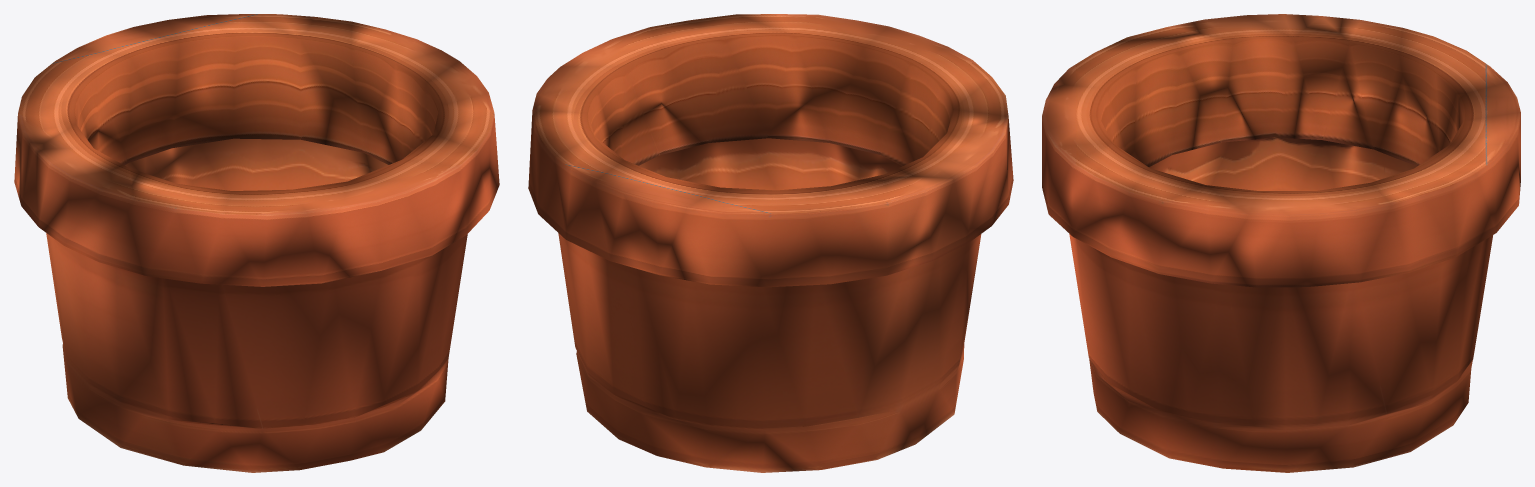
The model's file is Terracotta_Pot.fbx.
3 views of the same model, side by side, from view 1: azimuth 30°, elevation 25°; view 2: azimuth 150°, elevation 25°; view 3: azimuth 270°, elevation 25° (orthographic).
Parts seen in each view (by area): view 1: mesh_node; view 2: mesh_node; view 3: mesh_node.
Part boxes in pixels (left/top/right/bottom): mesh_node: left=14, top=14, right=499, bottom=472; mesh_node: left=528, top=14, right=1013, bottom=472; mesh_node: left=1042, top=14, right=1520, bottom=472.
Size of the model in its own units: 100 by 64.84 by 100.
1 material, 1 textured.
